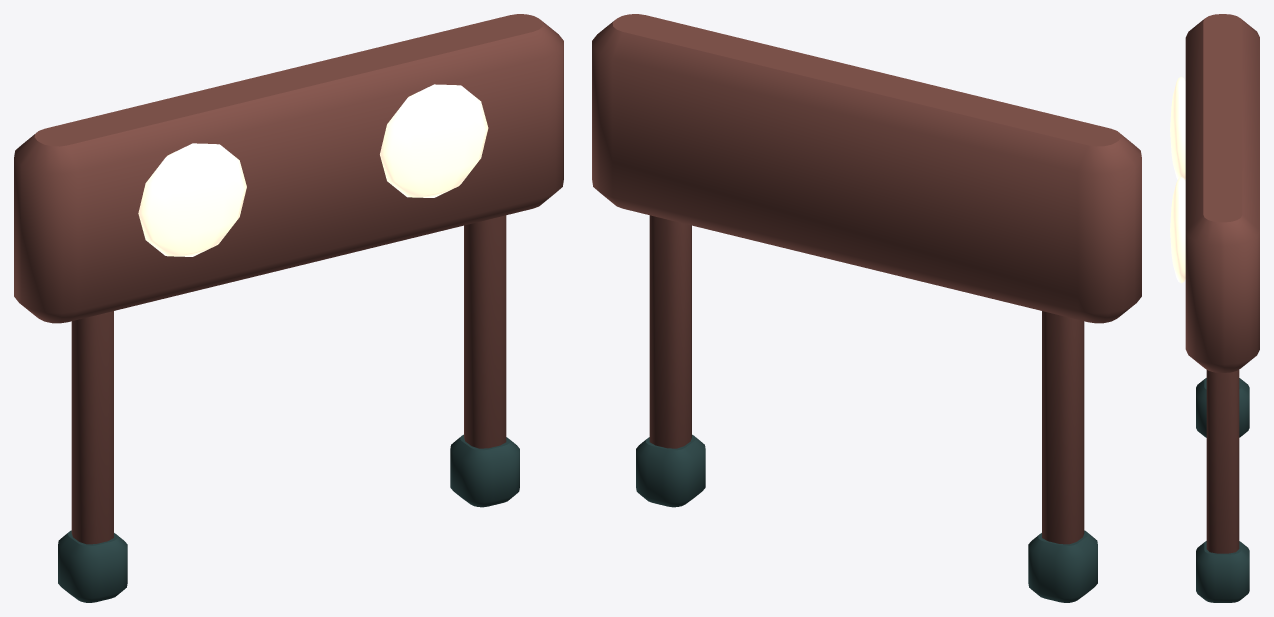
The model's file is motel_works_4.glb.
The picture shows the model from 3 angles, left to right: view 1: azimuth 30°, elevation 25°; view 2: azimuth 150°, elevation 25°; view 3: azimuth 270°, elevation 25°; orthographic projection. The views are drawn at different scales.
Parts seen in each view (by area): view 1: MotelWorks4; view 2: MotelWorks4; view 3: MotelWorks4.
Part boxes in pixels (left/top/right/bottom): MotelWorks4: left=14, top=14, right=563, bottom=602; MotelWorks4: left=592, top=14, right=1141, bottom=602; MotelWorks4: left=1170, top=14, right=1259, bottom=602.
Bounding box in the file's own units: 1.78 × 1.48 × 0.303.
